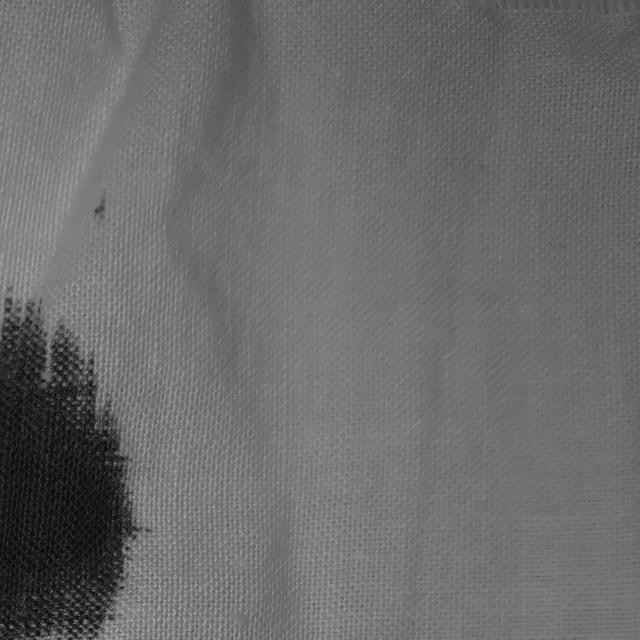Stain: (0, 297, 135, 640), (92, 196, 104, 220)
